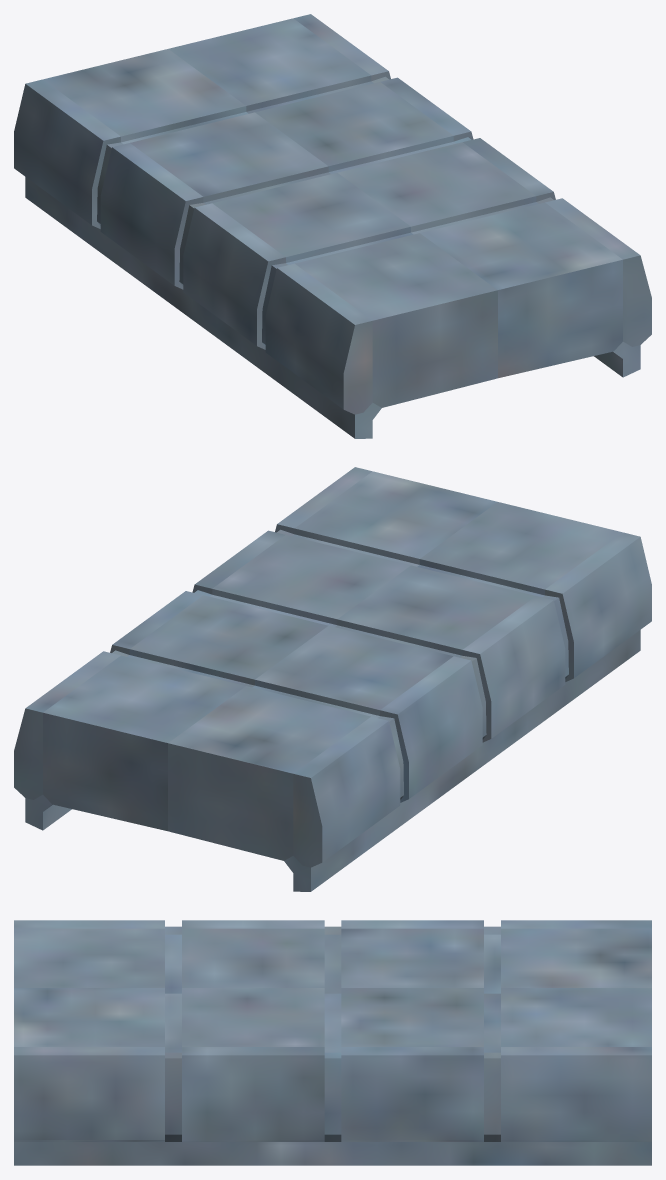
Rendered from room_03.fbx.
3 renders of one model, top to bottom at view 1: azimuth 30°, elevation 25°; view 2: azimuth 150°, elevation 25°; view 3: azimuth 270°, elevation 25°, orthographic. The views are drawn at different scales.
Visible parts, largest first — view 1: Cube.004; view 2: Cube.004; view 3: Cube.004.
Part boxes in pixels (left/top/right/bottom): Cube.004: left=14, top=14, right=651, bottom=438; Cube.004: left=14, top=467, right=651, bottom=891; Cube.004: left=14, top=920, right=651, bottom=1165.
Size of the model in its own units: 1079 by 395 by 2000.
